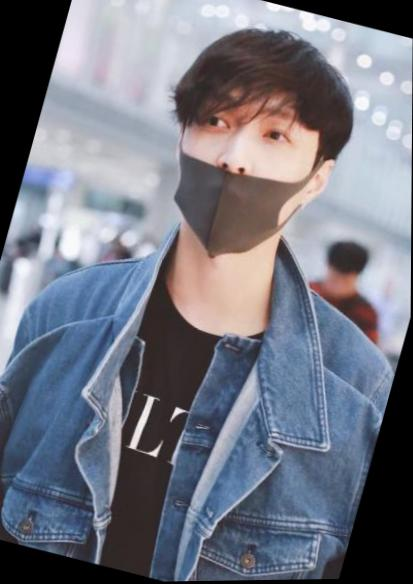WRONG: (152, 71, 325, 274)
